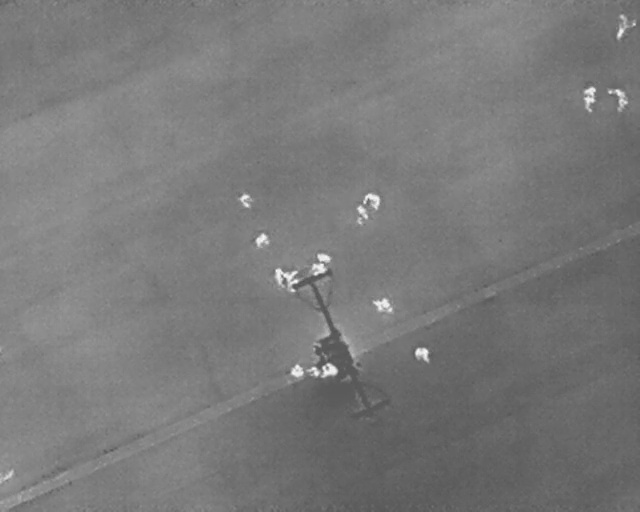Person: (368, 292, 398, 318), (615, 12, 635, 42), (607, 85, 628, 113), (360, 189, 384, 211), (582, 85, 597, 113), (282, 269, 299, 293), (355, 205, 369, 226), (414, 346, 430, 363), (310, 262, 329, 276), (322, 362, 338, 378), (290, 363, 305, 378), (316, 250, 332, 264), (255, 232, 269, 247), (239, 192, 252, 208), (273, 267, 283, 286)
